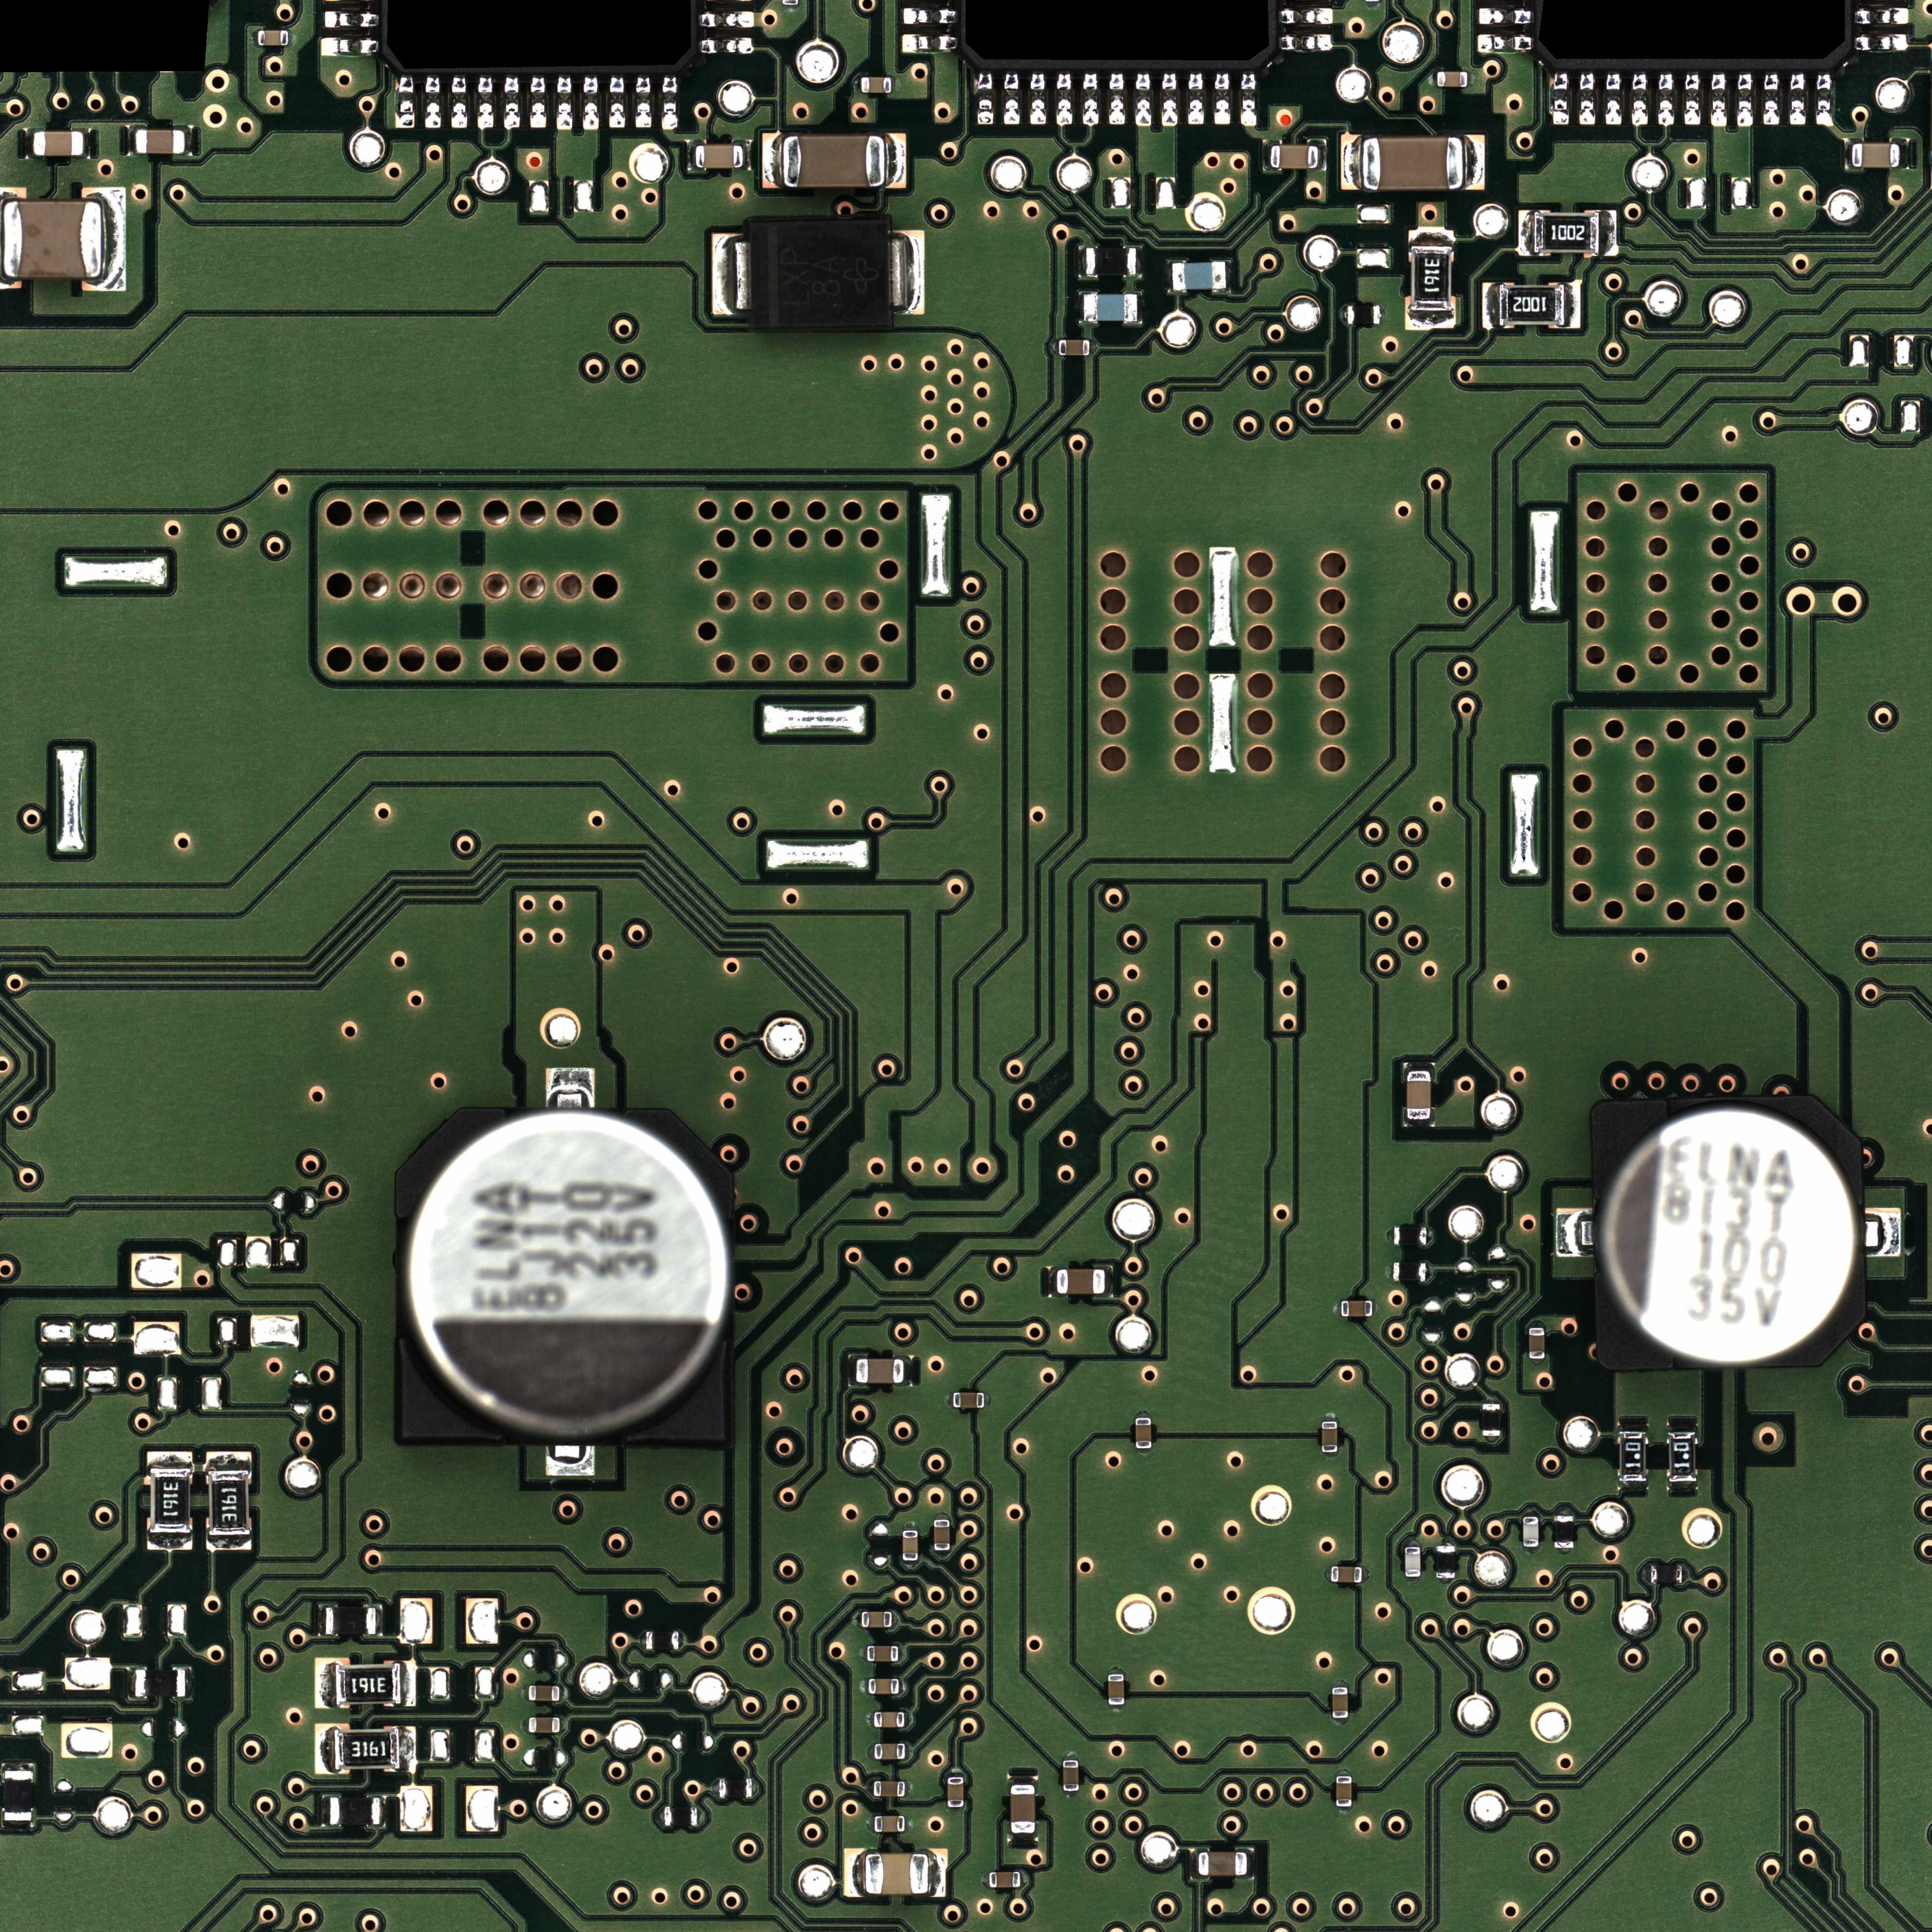Package: (391, 1108, 732, 1444), (1592, 1100, 1858, 1368), (750, 221, 888, 327), (5, 200, 103, 278), (782, 134, 885, 188), (1362, 136, 1463, 189), (1410, 246, 1453, 311), (334, 1729, 400, 1769), (1499, 285, 1564, 326), (1534, 212, 1599, 253), (865, 1854, 929, 1895), (336, 1665, 400, 1706), (209, 1472, 249, 1536), (150, 1470, 189, 1532), (1173, 262, 1226, 290), (1085, 294, 1138, 322), (329, 1798, 380, 1826), (326, 1606, 375, 1635), (4, 1771, 32, 1821), (1086, 248, 1136, 276), (134, 1670, 186, 1697), (1619, 1431, 1645, 1481), (34, 131, 83, 156), (1407, 1070, 1431, 1120), (1670, 1431, 1695, 1481), (136, 129, 184, 154), (856, 1359, 904, 1384), (1010, 1785, 1035, 1833), (1852, 143, 1900, 168), (1056, 1269, 1104, 1293), (1198, 1852, 1247, 1875), (695, 145, 743, 168), (1270, 145, 1318, 168), (646, 1631, 679, 1651), (663, 1806, 697, 1826), (1392, 1263, 1426, 1281), (720, 1780, 752, 1798), (1348, 306, 1380, 324), (1555, 1516, 1573, 1548), (1483, 1405, 1500, 1437), (1437, 1546, 1454, 1578), (1651, 1566, 1683, 1583), (1394, 1228, 1426, 1246), (867, 1645, 899, 1661), (874, 1744, 906, 1760), (1058, 340, 1090, 356), (1341, 1300, 1373, 1316), (1136, 1417, 1152, 1449), (1330, 1566, 1362, 1582), (258, 30, 288, 46), (874, 1815, 904, 1831), (862, 1612, 892, 1628), (954, 1392, 984, 1408), (989, 1872, 1019, 1888), (902, 1530, 918, 1560), (934, 1520, 950, 1550), (1523, 1516, 1539, 1546), (1336, 1776, 1352, 1806), (1063, 1760, 1079, 1790), (1405, 1546, 1421, 1576), (1529, 1329, 1545, 1359), (1322, 1422, 1338, 1453), (1332, 1688, 1348, 1718), (1108, 1675, 1123, 1706), (948, 1778, 964, 1806), (862, 78, 892, 92), (529, 1718, 559, 1732), (874, 1713, 904, 1727), (529, 1686, 559, 1700), (869, 1679, 899, 1693), (874, 1782, 904, 1796), (1437, 73, 1467, 87)
Solder: (711, 234, 752, 317), (888, 230, 925, 315), (104, 188, 126, 292), (1555, 1207, 1594, 1258), (547, 1067, 594, 1108), (1863, 1208, 1902, 1258), (545, 1445, 596, 1476), (901, 32, 959, 55), (901, 4, 959, 27), (395, 74, 418, 131), (318, 35, 379, 57), (320, 9, 379, 30), (885, 133, 906, 189), (1463, 134, 1484, 191), (1476, 32, 1532, 53), (1476, 5, 1532, 27), (1277, 5, 1334, 27), (1277, 32, 1334, 53), (699, 35, 755, 57), (1341, 134, 1362, 189), (1854, 5, 1909, 27), (1854, 32, 1909, 53), (701, 9, 755, 30), (658, 76, 679, 131), (605, 76, 626, 131), (580, 76, 602, 131), (527, 76, 548, 131), (474, 76, 495, 131), (763, 133, 782, 189), (1789, 73, 1808, 129), (1709, 71, 1729, 127), (1658, 71, 1677, 127), (1605, 71, 1624, 127), (1238, 71, 1258, 127), (1161, 71, 1180, 127), (633, 74, 653, 131), (556, 74, 575, 131), (502, 74, 522, 131), (423, 74, 442, 131), (844, 1847, 865, 1898), (1815, 73, 1835, 127), (1683, 73, 1702, 127), (1631, 73, 1651, 127), (1578, 71, 1598, 126), (1552, 71, 1571, 126), (1108, 73, 1127, 127), (1054, 73, 1074, 127), (977, 73, 996, 127), (449, 76, 469, 131), (1214, 71, 1231, 127), (1187, 71, 1205, 127), (315, 1723, 334, 1775), (315, 1658, 334, 1709), (1764, 73, 1782, 127), (1737, 73, 1755, 127), (1134, 73, 1152, 127), (1081, 73, 1099, 127), (1030, 73, 1047, 127), (1003, 73, 1021, 127), (1405, 311, 1456, 329), (205, 1451, 251, 1470), (929, 1849, 947, 1898), (147, 1451, 193, 1468), (1408, 228, 1454, 246), (1599, 211, 1617, 257), (1564, 281, 1580, 329), (400, 1727, 416, 1773), (147, 1534, 193, 1550), (1518, 211, 1534, 257), (1483, 283, 1499, 329), (205, 1536, 253, 1550), (402, 1661, 416, 1707), (2, 1762, 34, 1771), (317, 1605, 326, 1637), (904, 1355, 913, 1387), (1318, 140, 1327, 172), (1077, 246, 1086, 278), (1403, 1062, 1435, 1070), (1007, 1833, 1039, 1842), (1617, 1422, 1649, 1431), (1667, 1422, 1698, 1431), (1667, 1481, 1698, 1490), (25, 129, 34, 159), (184, 126, 193, 156), (127, 126, 136, 156), (375, 1605, 384, 1635), (743, 140, 752, 170), (686, 140, 695, 170), (847, 1355, 856, 1385), (1047, 1267, 1056, 1297), (1008, 1775, 1039, 1783), (1189, 1849, 1198, 1879), (1900, 138, 1909, 168), (1844, 140, 1852, 170), (1619, 1481, 1649, 1490), (83, 127, 90, 159), (2, 1821, 34, 1828), (1166, 260, 1173, 292), (1263, 140, 1270, 172), (1136, 246, 1143, 278), (1138, 292, 1145, 324), (1106, 1265, 1113, 1297), (1403, 1120, 1435, 1127), (322, 1796, 329, 1826), (380, 1796, 387, 1826), (127, 1668, 134, 1698), (186, 1668, 193, 1698), (1077, 292, 1085, 322), (1247, 1849, 1254, 1879), (656, 1806, 665, 1826), (1385, 1226, 1394, 1246), (1226, 260, 1231, 292), (904, 1743, 913, 1760), (1555, 1507, 1573, 1516), (945, 1392, 954, 1408), (853, 1612, 862, 1628), (904, 1815, 913, 1831), (860, 1679, 869, 1695), (559, 1718, 568, 1734), (904, 1782, 913, 1798), (934, 1550, 950, 1559), (984, 1392, 993, 1408), (1322, 1414, 1338, 1422), (1332, 1718, 1348, 1727), (1063, 1752, 1079, 1760), (1332, 1679, 1348, 1688), (1467, 71, 1476, 87), (1529, 1320, 1545, 1329), (1523, 1546, 1539, 1555), (752, 1778, 759, 1798), (1555, 1548, 1575, 1555), (855, 76, 862, 94), (892, 76, 899, 94), (697, 1808, 704, 1826), (947, 1808, 964, 1815), (904, 1711, 911, 1729), (867, 1711, 874, 1729), (947, 1769, 964, 1776), (867, 1815, 874, 1833), (867, 1743, 874, 1760), (1341, 306, 1348, 324), (1385, 1263, 1392, 1281), (1426, 1263, 1433, 1281), (1134, 1410, 1152, 1417), (1426, 1228, 1433, 1246), (1323, 1566, 1330, 1583), (1437, 1539, 1454, 1546), (1437, 1578, 1454, 1585), (1108, 1706, 1125, 1713), (1483, 1437, 1500, 1444), (1522, 1509, 1539, 1516), (1683, 1566, 1690, 1583), (1644, 1566, 1651, 1583), (288, 30, 295, 46), (251, 30, 258, 46), (902, 1523, 918, 1530), (860, 1645, 867, 1661), (892, 1612, 899, 1628), (934, 1513, 950, 1520), (867, 1780, 874, 1796), (559, 1686, 566, 1702), (902, 1560, 918, 1568), (899, 1645, 906, 1661), (522, 1684, 529, 1700), (522, 1718, 529, 1734), (899, 1679, 906, 1695), (1051, 340, 1058, 356), (1090, 340, 1097, 356), (1430, 71, 1437, 87), (1373, 1300, 1380, 1316), (1334, 1300, 1341, 1316), (1136, 1449, 1152, 1456), (1322, 1453, 1338, 1460), (1405, 1576, 1421, 1583), (982, 1872, 989, 1888), (1405, 1539, 1421, 1546), (1021, 1872, 1028, 1888), (1336, 1806, 1352, 1813), (1336, 1769, 1352, 1776), (1362, 1568, 1369, 1583), (1063, 1790, 1079, 1798), (1529, 1359, 1545, 1366), (640, 1631, 646, 1649), (713, 1780, 718, 1798), (679, 1631, 685, 1649), (1380, 306, 1385, 324), (1108, 1668, 1125, 1674), (1483, 1398, 1500, 1403)
